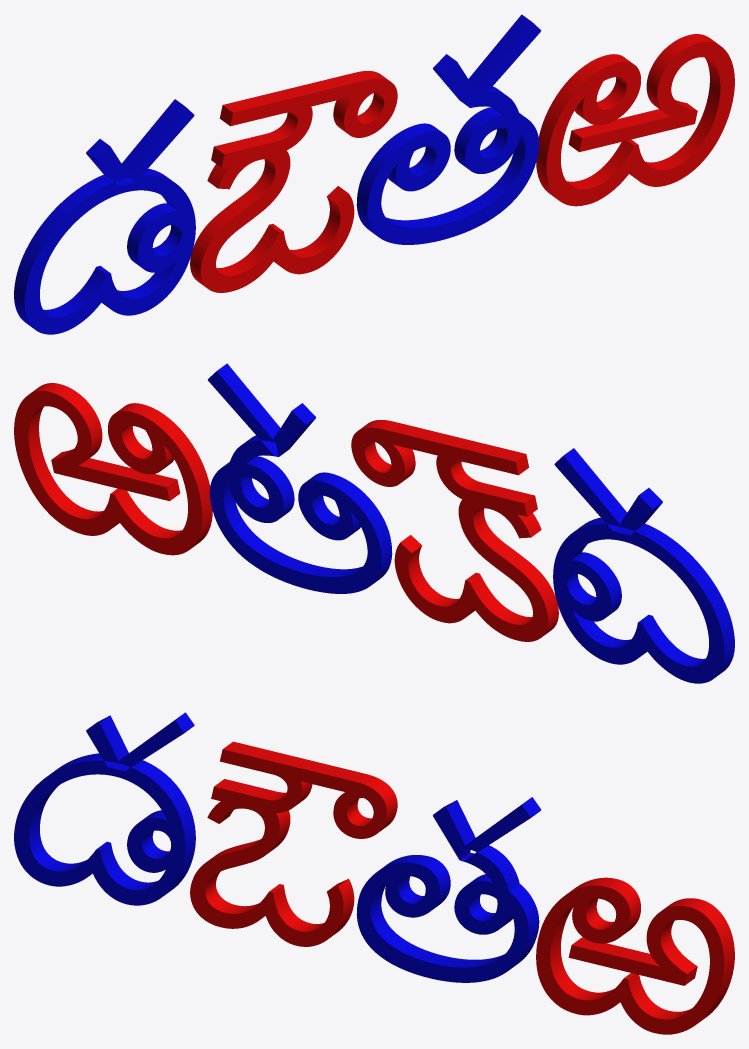
File: Text_sign_19.fbx
The picture shows the model from 3 angles, top to bottom: view 1: azimuth 30°, elevation 25°; view 2: azimuth 150°, elevation 25°; view 3: azimuth 330°, elevation 25°; orthographic projection.
Parts seen in each view (by area): view 1: Text_sign_19; view 2: Text_sign_19; view 3: Text_sign_19.
Part boxes in pixels (x1=…): Text_sign_19: x1=14, y1=14, x2=734, y2=334; Text_sign_19: x1=14, y1=363, x2=734, y2=683; Text_sign_19: x1=14, y1=712, x2=734, y2=1034.
Bounding box in the file's own units: 97.29 × 25.67 × 2.52.
